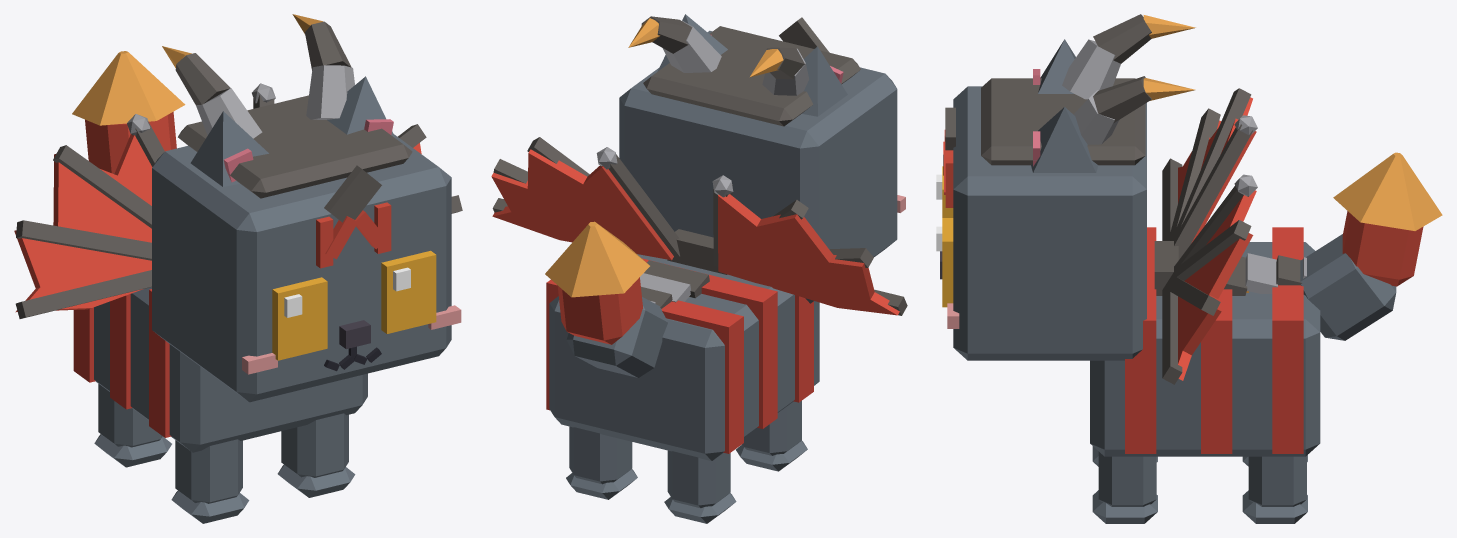
Rendered from CatCafe_Cat_DragonKnight.glb.
3 renders of one model, left to right at view 1: azimuth 30°, elevation 25°; view 2: azimuth 150°, elevation 25°; view 3: azimuth 270°, elevation 25°, orthographic. The views are drawn at different scales.
Parts seen in each view (by area): view 1: CatCafe_Cat_DragonKnight_Head, CatCafe_Cat_DragonKnight_Body, CatCafe_Cat_DragonKnight_Prop2, CatCafe_Cat_DragonKnight_Prop, CatCafe_Cat_DragonKnight_LegF2, CatCafe_Cat_DragonKnight_LegF1, CatCafe_Cat_DragonKnight_Tail_Ember_Glow, CatCafe_Cat_DragonKnight_Eye1, CatCafe_Cat_DragonKnight_Eye2, CatCafe_Cat_DragonKnight_LegB2, CatCafe_Cat_DragonKnight_EarR, CatCafe_Cat_DragonKnight_Tail (+1 smaller); view 2: CatCafe_Cat_DragonKnight_Head, CatCafe_Cat_DragonKnight_Body, CatCafe_Cat_DragonKnight_Prop2, CatCafe_Cat_DragonKnight_Prop, CatCafe_Cat_DragonKnight_Tail, CatCafe_Cat_DragonKnight_Tail_Ember_Glow, CatCafe_Cat_DragonKnight_LegB2, CatCafe_Cat_DragonKnight_LegB1, CatCafe_Cat_DragonKnight_LegF2, CatCafe_Cat_DragonKnight_EarR, CatCafe_Cat_DragonKnight_Horn_Glow, CatCafe_Cat_DragonKnight_EarL; view 3: CatCafe_Cat_DragonKnight_Head, CatCafe_Cat_DragonKnight_Body, CatCafe_Cat_DragonKnight_Prop2, CatCafe_Cat_DragonKnight_Prop, CatCafe_Cat_DragonKnight_Tail, CatCafe_Cat_DragonKnight_Tail_Ember_Glow, CatCafe_Cat_DragonKnight_LegF1, CatCafe_Cat_DragonKnight_LegB1, CatCafe_Cat_DragonKnight_EarL, CatCafe_Cat_DragonKnight_Horn_Glow, CatCafe_Cat_DragonKnight_EarR, CatCafe_Cat_DragonKnight_Eye1.
Part boxes in pixels (left/top/right/bottom): CatCafe_Cat_DragonKnight_Head: left=152, top=134, right=461, bottom=402; CatCafe_Cat_DragonKnight_Body: left=73, top=287, right=367, bottom=452; CatCafe_Cat_DragonKnight_Prop2: left=14, top=83, right=462, bottom=318; CatCafe_Cat_DragonKnight_Prop: left=175, top=21, right=412, bottom=222; CatCafe_Cat_DragonKnight_LegF2: left=171, top=439, right=249, bottom=523; CatCafe_Cat_DragonKnight_LegF1: left=277, top=413, right=355, bottom=497; CatCafe_Cat_DragonKnight_Tail_Ember_Glow: left=72, top=51, right=185, bottom=125; CatCafe_Cat_DragonKnight_Eye1: left=381, top=250, right=436, bottom=333; CatCafe_Cat_DragonKnight_Eye2: left=272, top=277, right=327, bottom=360; CatCafe_Cat_DragonKnight_LegB2: left=94, top=384, right=171, bottom=467; CatCafe_Cat_DragonKnight_EarR: left=190, top=111, right=268, bottom=186; CatCafe_Cat_DragonKnight_Tail: left=85, top=111, right=176, bottom=173; CatCafe_Cat_DragonKnight_Head: left=619, top=30, right=905, bottom=303; CatCafe_Cat_DragonKnight_Body: left=546, top=254, right=819, bottom=460; CatCafe_Cat_DragonKnight_Prop2: left=491, top=137, right=907, bottom=315; CatCafe_Cat_DragonKnight_Prop: left=641, top=16, right=860, bottom=126; CatCafe_Cat_DragonKnight_Tail: left=557, top=277, right=667, bottom=377; CatCafe_Cat_DragonKnight_Tail_Ember_Glow: left=545, top=221, right=649, bottom=297; CatCafe_Cat_DragonKnight_LegB2: left=664, top=450, right=736, bottom=523; CatCafe_Cat_DragonKnight_LegB1: left=566, top=426, right=637, bottom=499; CatCafe_Cat_DragonKnight_LegF2: left=736, top=401, right=807, bottom=471; CatCafe_Cat_DragonKnight_EarR: left=802, top=46, right=847, bottom=116; CatCafe_Cat_DragonKnight_Horn_Glow: left=628, top=18, right=783, bottom=77; CatCafe_Cat_DragonKnight_EarL: left=657, top=14, right=727, bottom=71; CatCafe_Cat_DragonKnight_Head: left=940, top=86, right=1146, bottom=360; CatCafe_Cat_DragonKnight_Body: left=1090, top=227, right=1320, bottom=456; CatCafe_Cat_DragonKnight_Prop2: left=1154, top=88, right=1306, bottom=384; CatCafe_Cat_DragonKnight_Prop: left=945, top=14, right=1151, bottom=165; CatCafe_Cat_DragonKnight_Tail: left=1300, top=211, right=1423, bottom=340; CatCafe_Cat_DragonKnight_Tail_Ember_Glow: left=1333, top=152, right=1442, bottom=230; CatCafe_Cat_DragonKnight_LegF1: left=1092, top=451, right=1157, bottom=523; CatCafe_Cat_DragonKnight_LegB1: left=1242, top=456, right=1307, bottom=523; CatCafe_Cat_DragonKnight_EarL: left=1031, top=107, right=1098, bottom=172; CatCafe_Cat_DragonKnight_Horn_Glow: left=1143, top=15, right=1195, bottom=100; CatCafe_Cat_DragonKnight_EarR: left=1033, top=39, right=1075, bottom=93; CatCafe_Cat_DragonKnight_Eye1: left=936, top=218, right=953, bottom=307.
Bounding box in the file's own units: 2.64 × 2.63 × 2.72.
1 material, 1 textured.
